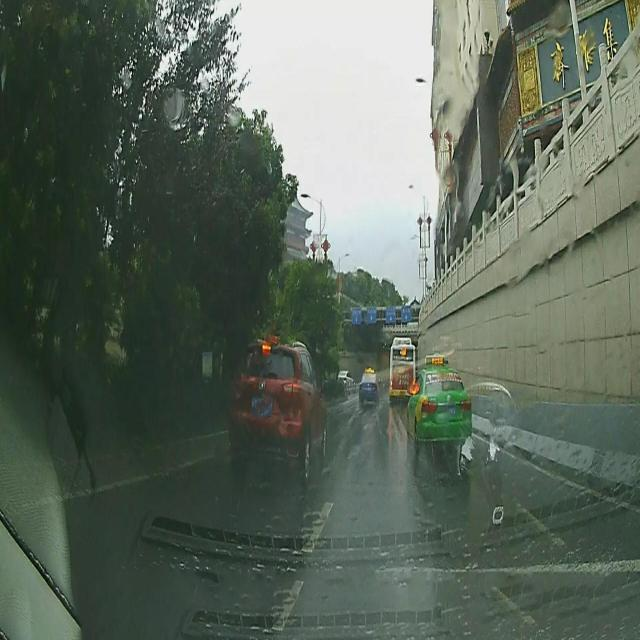car: (226, 338, 326, 483), (406, 353, 474, 451), (359, 373, 377, 408)
